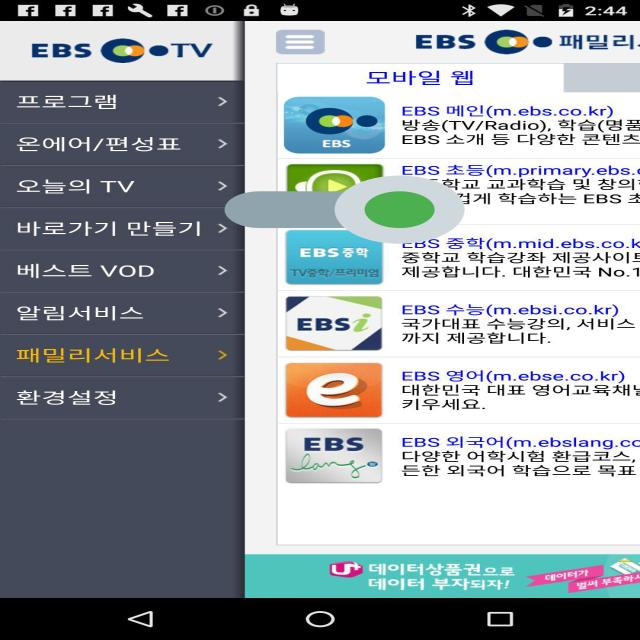social proof: (225, 146, 464, 272)
